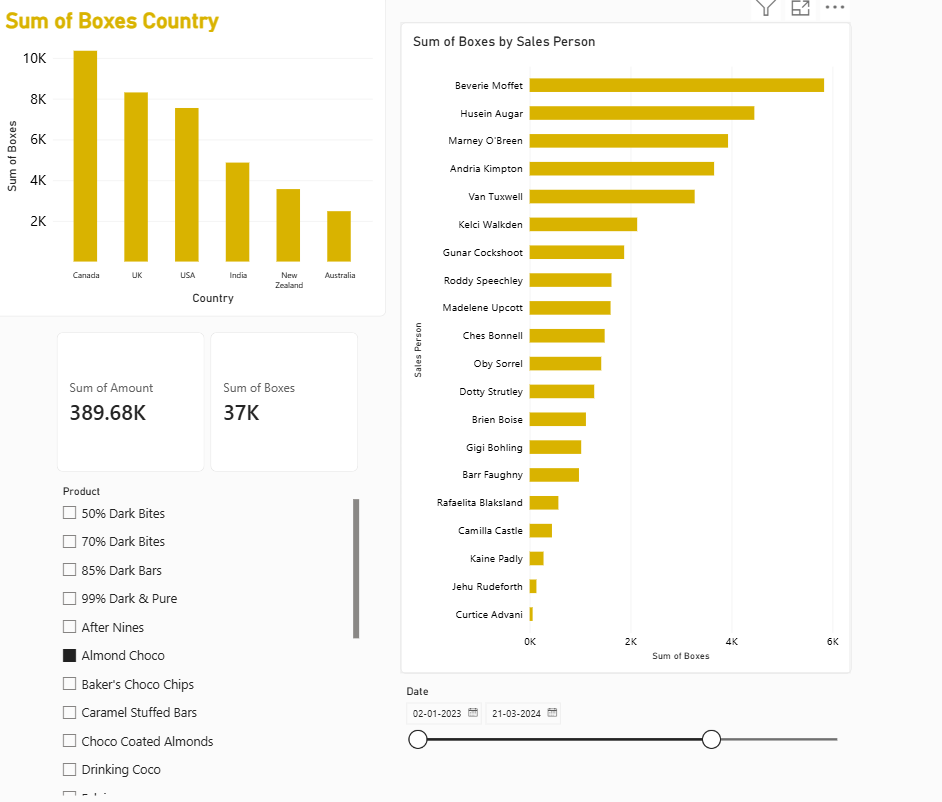

The page's visual inventory and layout, read from the dashboard file:
{"tool":"powerbi","page":{"name":"Page 1","canvas":[1920,1080],"ordinal":0},"visuals":[{"type":"columnChart","title":"Sum of Boxes Country","fields":{"Category":["data.Country"],"Y":["Sum(data.Boxes)"]},"box":[0,0,523.8,427.5],"z":0},{"type":"clusteredBarChart","fields":{"Category":["data.Sales Person"],"Y":["Sum(data.Boxes)"]},"box":[542.5,35,601.2,868.8],"z":1000},{"type":"cardVisual","fields":{"Data":["Sum(data.Amount)","Sum(data.Boxes)"]},"box":[85,447.5,402.5,186.2],"z":2000},{"type":"slicer","fields":{"Values":["data.Product"]},"box":[85,651.2,403,414],"z":3000},{"type":"slicer","fields":{"Values":["data.Date"]},"box":[542.5,918.8,601,161],"z":4000}]}

Visuals, with their boxes on the page's 1920x1080 design canvas (x1, y1, x2, y2). These are canvas units, not pixel positions in the 942x802 screenshot, which may show the page scaled, cropped or inside an application window:
"Sum of Boxes Country" columnChart: box(0, 0, 524, 428)
clusteredBarChart - data.Sales Person x Sum(data.Boxes): box(542, 35, 1144, 904)
cardVisual - Sum(data.Amount) x Sum(data.Boxes): box(85, 448, 488, 634)
slicer - data.Product: box(85, 651, 488, 1065)
slicer - data.Date: box(542, 919, 1144, 1080)
